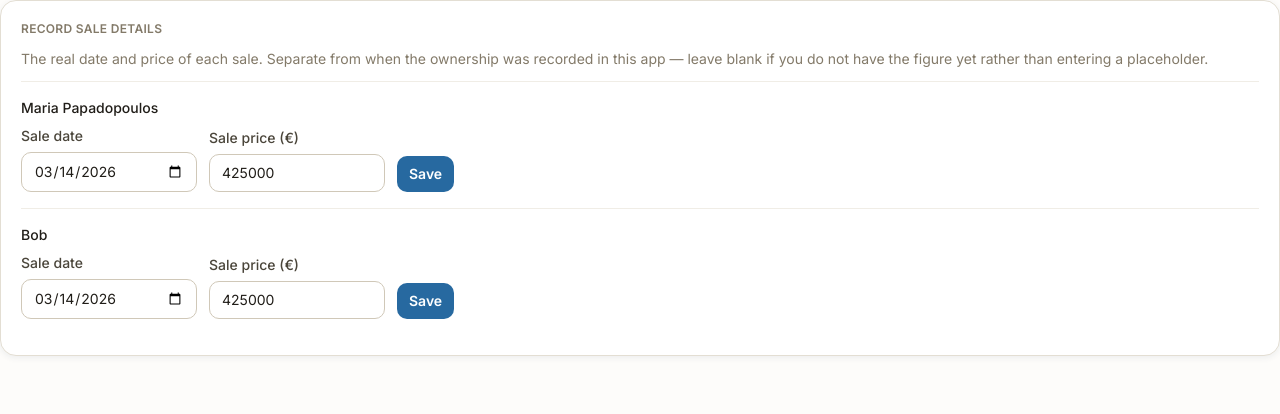
Test case: SaleDetailsPanel › keeps each buyer's error scoped to their own form
Click the button "Save" below "Maria Papadopoulos": (426, 174) [397,156,454,192]
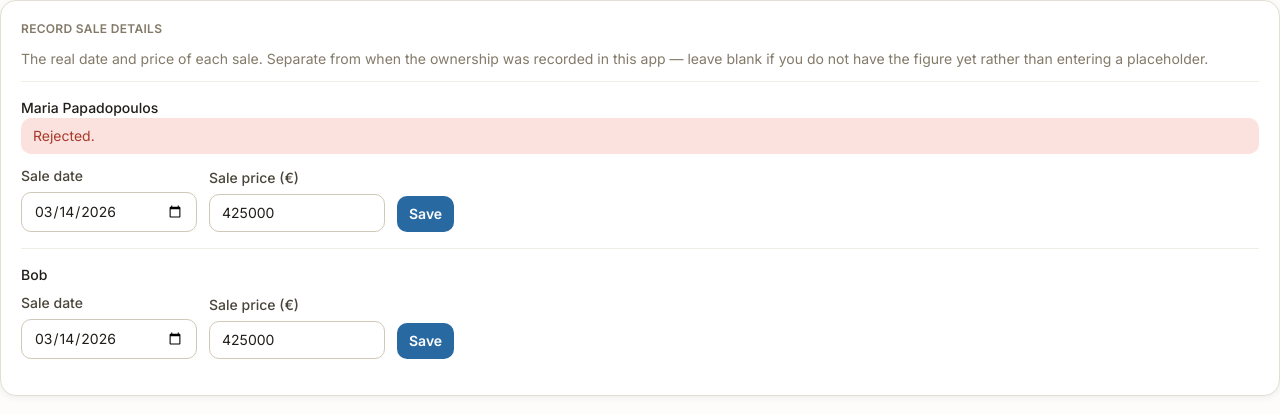
Now the number of messages is 1, box [21,118,1259,154]
